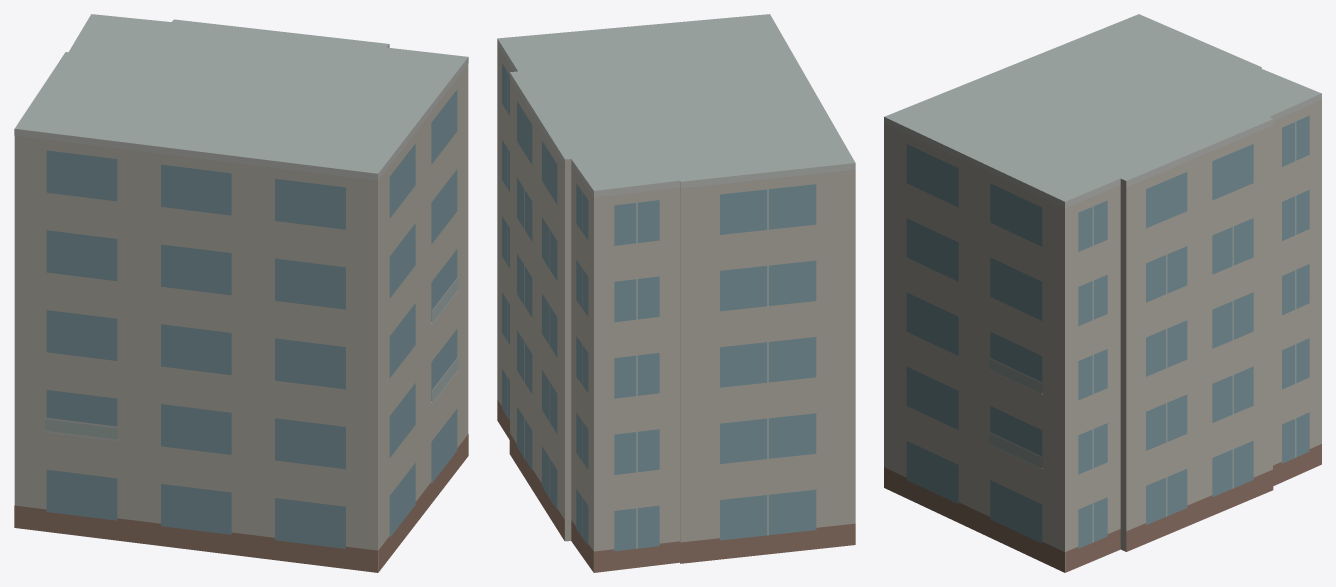
The model's file is survey-upis-32772396.glb.
3 renders of one model, left to right at view 1: azimuth 30°, elevation 25°; view 2: azimuth 150°, elevation 25°; view 3: azimuth 270°, elevation 25°, orthographic. The views are drawn at different scales.
Parts seen in each view (by area): view 1: survey-upis-32772396.tmp; view 2: survey-upis-32772396.tmp; view 3: survey-upis-32772396.tmp.
Boxes of the visible parts, x1,y1,x2,y2 form: survey-upis-32772396.tmp: (14, 14, 468, 572); survey-upis-32772396.tmp: (497, 14, 855, 572); survey-upis-32772396.tmp: (884, 14, 1321, 572).
Size of the model in its own units: 15.51 by 14.27 by 15.27.
